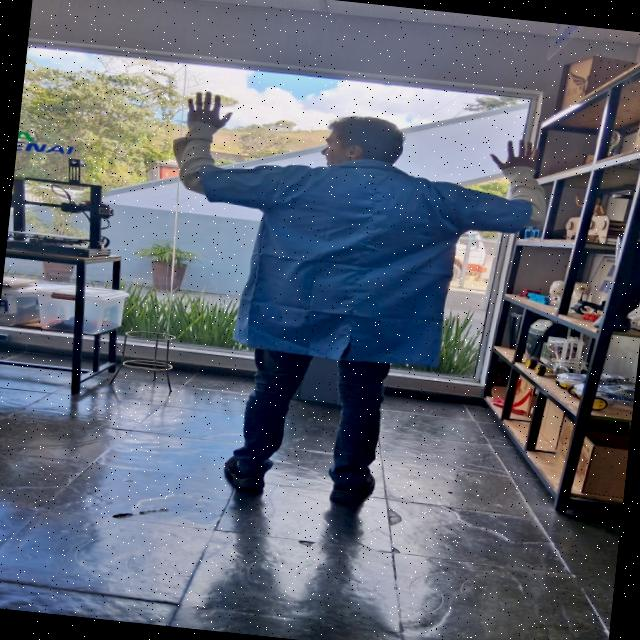BOTA: (320, 464, 379, 504), (219, 450, 265, 487)
JALECO: (200, 156, 527, 369)
SEM LUVA: (179, 89, 238, 130), (483, 137, 543, 177)
